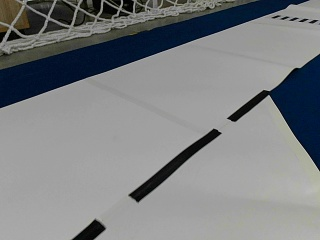crosswalk: (272, 13, 318, 23)
